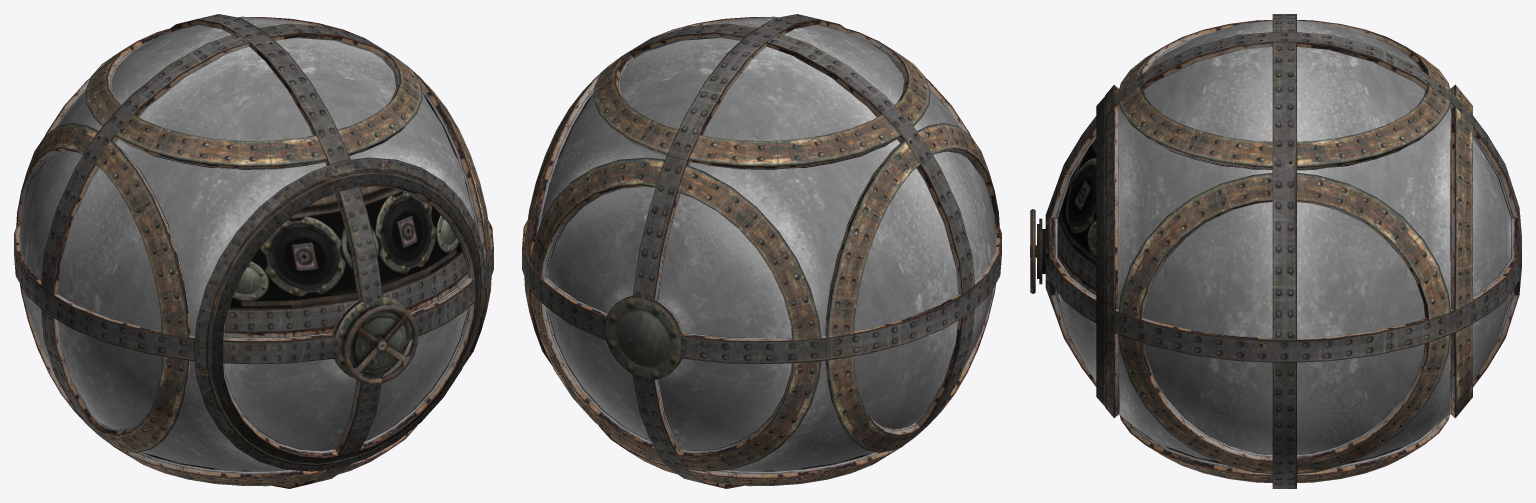
The model's file is rescuesphere.obj.
3 views of the same model, side by side, from view 1: azimuth 30°, elevation 25°; view 2: azimuth 150°, elevation 25°; view 3: azimuth 270°, elevation 25° (orthographic).
Visible parts, largest first — view 1: PDLC_SHRINE_Joker_Ball_ForSequence; view 2: PDLC_SHRINE_Joker_Ball_ForSequence; view 3: PDLC_SHRINE_Joker_Ball_ForSequence.
Boxes of the visible parts, x1,y1,x2,y2 form: PDLC_SHRINE_Joker_Ball_ForSequence: (14,14,493,488); PDLC_SHRINE_Joker_Ball_ForSequence: (522,14,1001,488); PDLC_SHRINE_Joker_Ball_ForSequence: (1030,14,1521,488).
Bounding box in the file's own units: 265 × 265 × 276.
